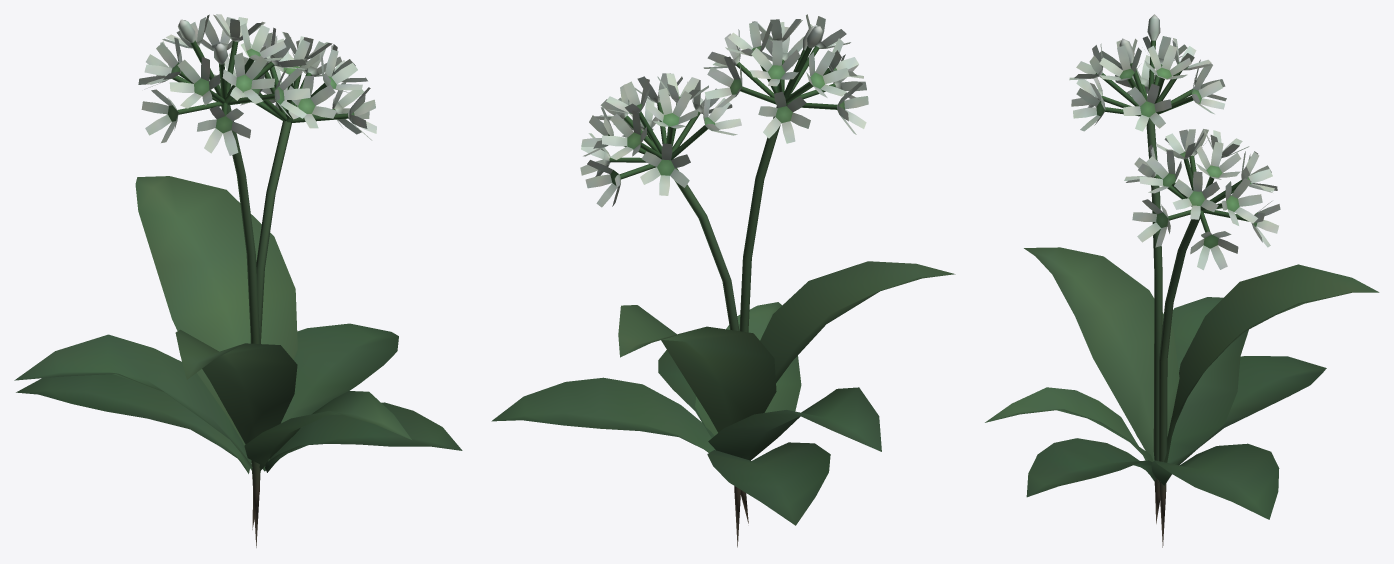
The model's file is plants-flowers-wild-garlic_v3.glb.
The picture shows the model from 3 angles, left to right: view 1: azimuth 30°, elevation 25°; view 2: azimuth 150°, elevation 25°; view 3: azimuth 270°, elevation 25°; orthographic projection. The views are drawn at different scales.
Parts seen in each view (by area): view 1: Wild Garlic_v3; view 2: Wild Garlic_v3; view 3: Wild Garlic_v3.
Part boxes in pixels (box(x1,y1,x2,y2)): Wild Garlic_v3: box(14, 14, 462, 547); Wild Garlic_v3: box(491, 14, 955, 547); Wild Garlic_v3: box(985, 14, 1379, 547).
Bounding box in the file's own units: 0.2944 × 0.4 × 0.2866.
